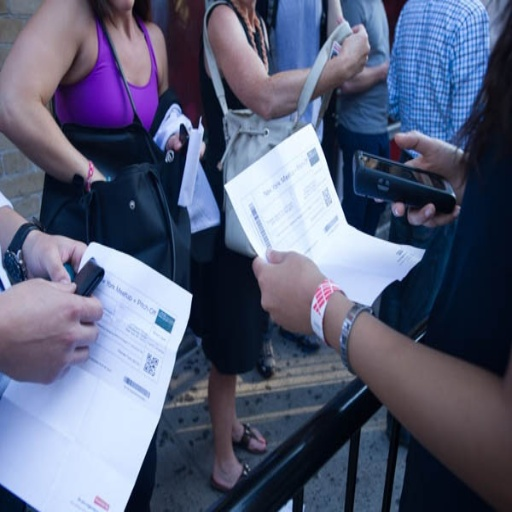hand: (0, 191, 105, 388), (374, 128, 469, 232), (251, 242, 331, 337), (23, 229, 87, 284), (336, 14, 369, 80), (164, 133, 205, 159), (379, 61, 389, 82)
